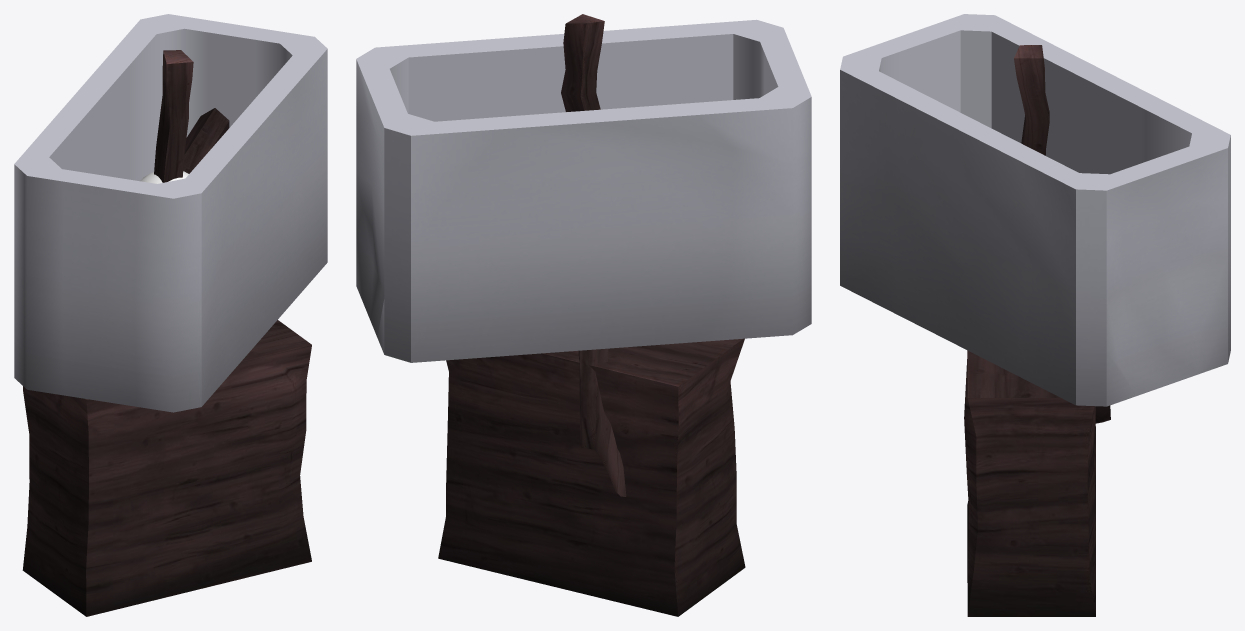
The model's file is frl_apartment_lamp_01.glb.
3 renders of one model, left to right at view 1: azimuth 30°, elevation 25°; view 2: azimuth 150°, elevation 25°; view 3: azimuth 270°, elevation 25°, orthographic. The views are drawn at different scales.
Visible parts, largest first — view 1: frl_apartment_lamp_01; view 2: frl_apartment_lamp_01; view 3: frl_apartment_lamp_01.
Boxes of the visible parts, left/top/right/bottom form: frl_apartment_lamp_01: left=14, top=14, right=327, bottom=616; frl_apartment_lamp_01: left=356, top=14, right=811, bottom=616; frl_apartment_lamp_01: left=840, top=14, right=1230, bottom=616.
Size of the model in its own units: 0.4559 by 0.622 by 0.4263.
Materials: 1 (1 with a texture image).
